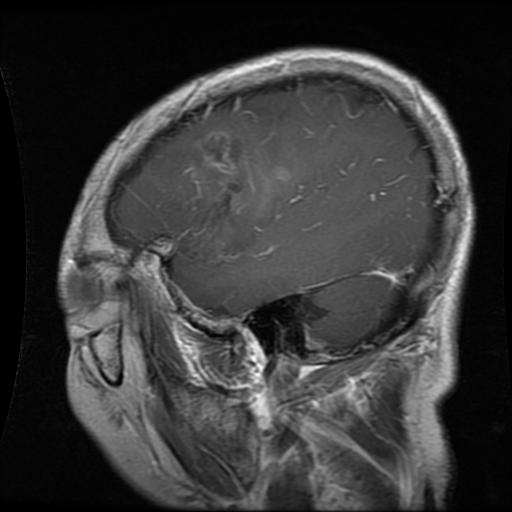Gliomia_tumour: (185, 124, 302, 257)
